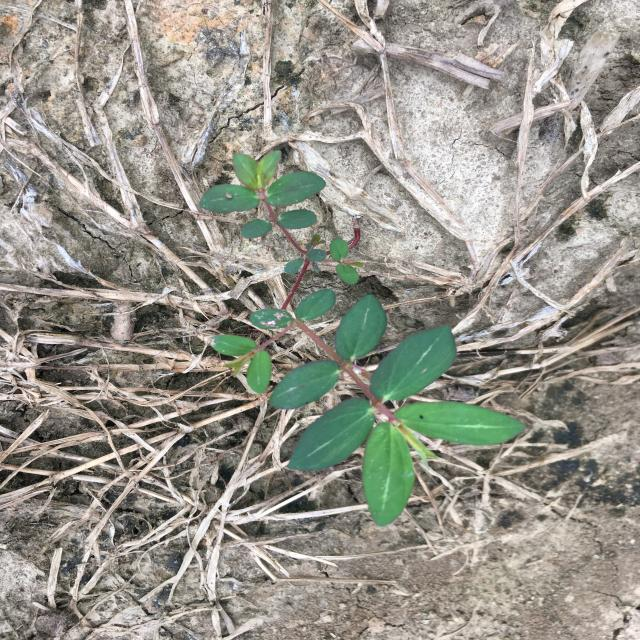SpottedSpurge: (198, 151, 526, 526)
